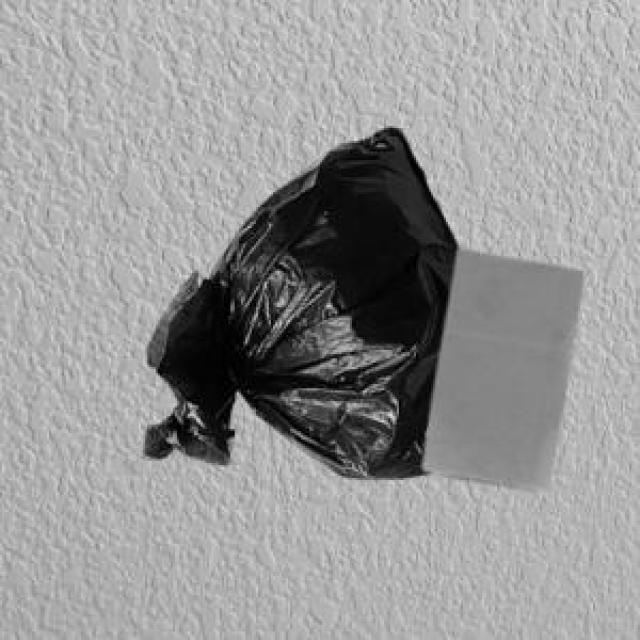miscellaneous trash: (139, 124, 454, 474)
paper: (418, 245, 580, 486)
